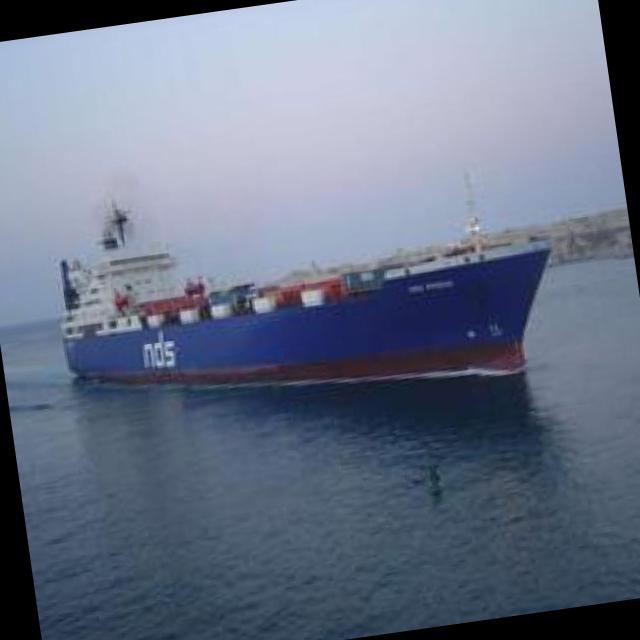boat: (17, 146, 592, 472)
